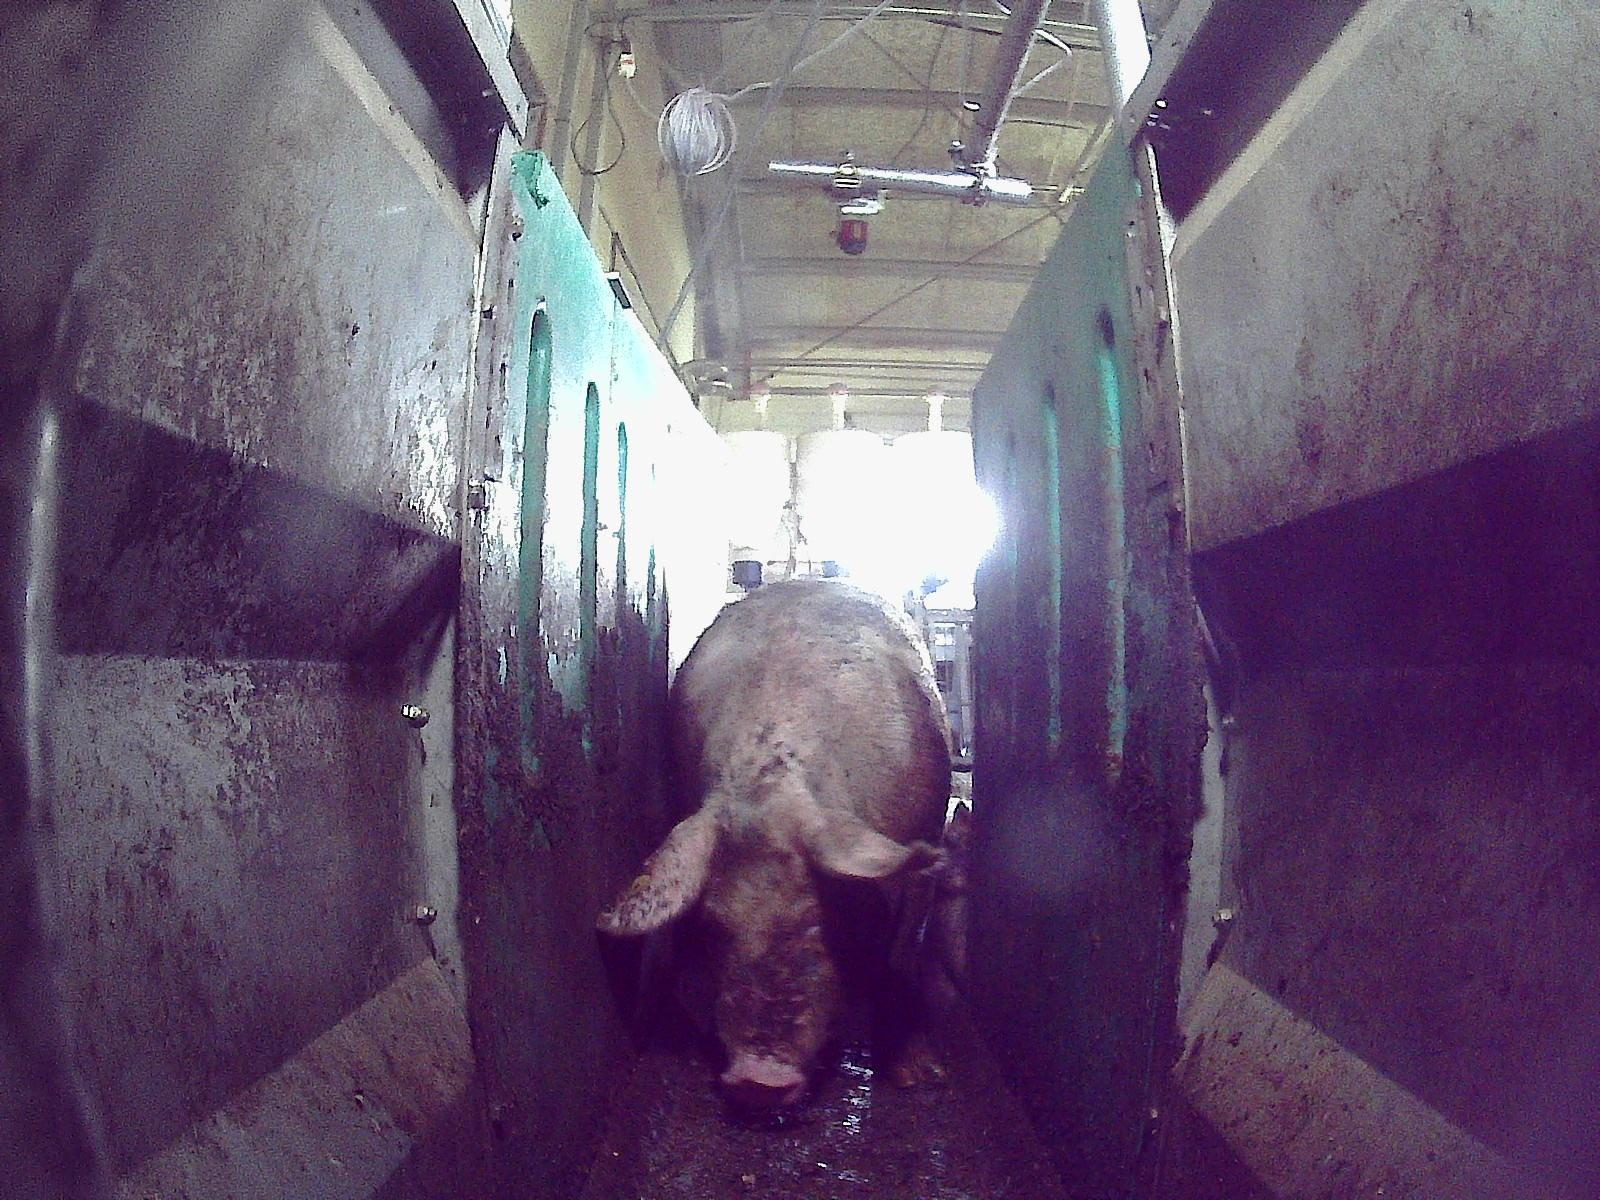Face: (694, 803, 854, 1111)
